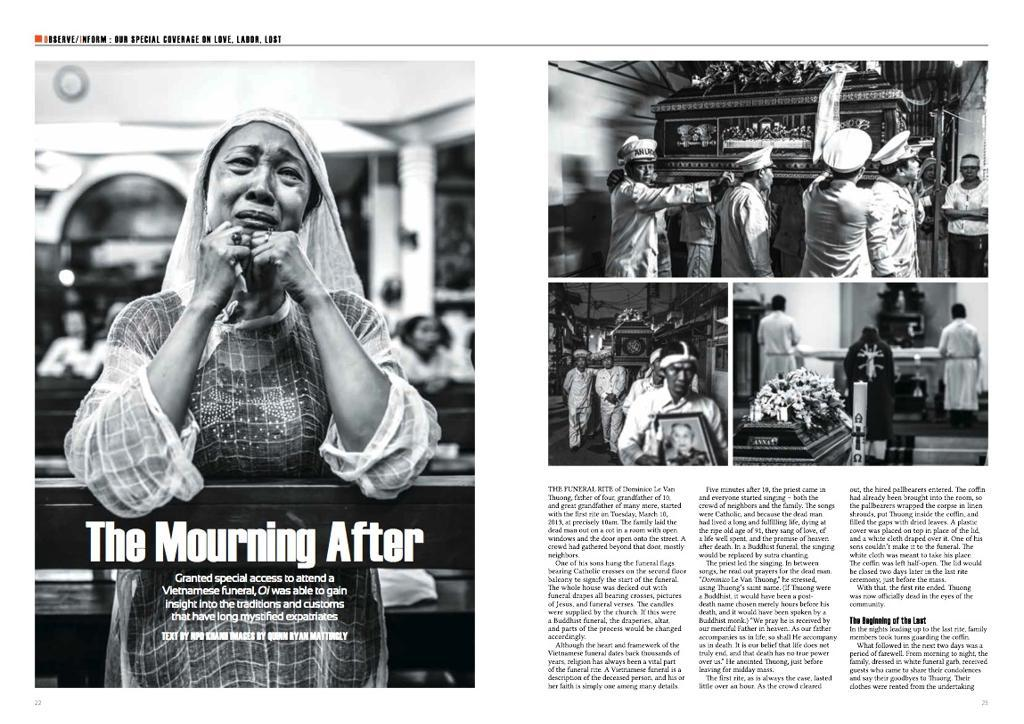face: (209, 134, 312, 253), (667, 362, 695, 393), (414, 323, 439, 354), (631, 159, 654, 184), (900, 157, 920, 180), (674, 428, 693, 450), (759, 166, 774, 191), (654, 358, 671, 377), (963, 162, 979, 180), (925, 164, 939, 181), (603, 357, 613, 368), (578, 358, 587, 368)
